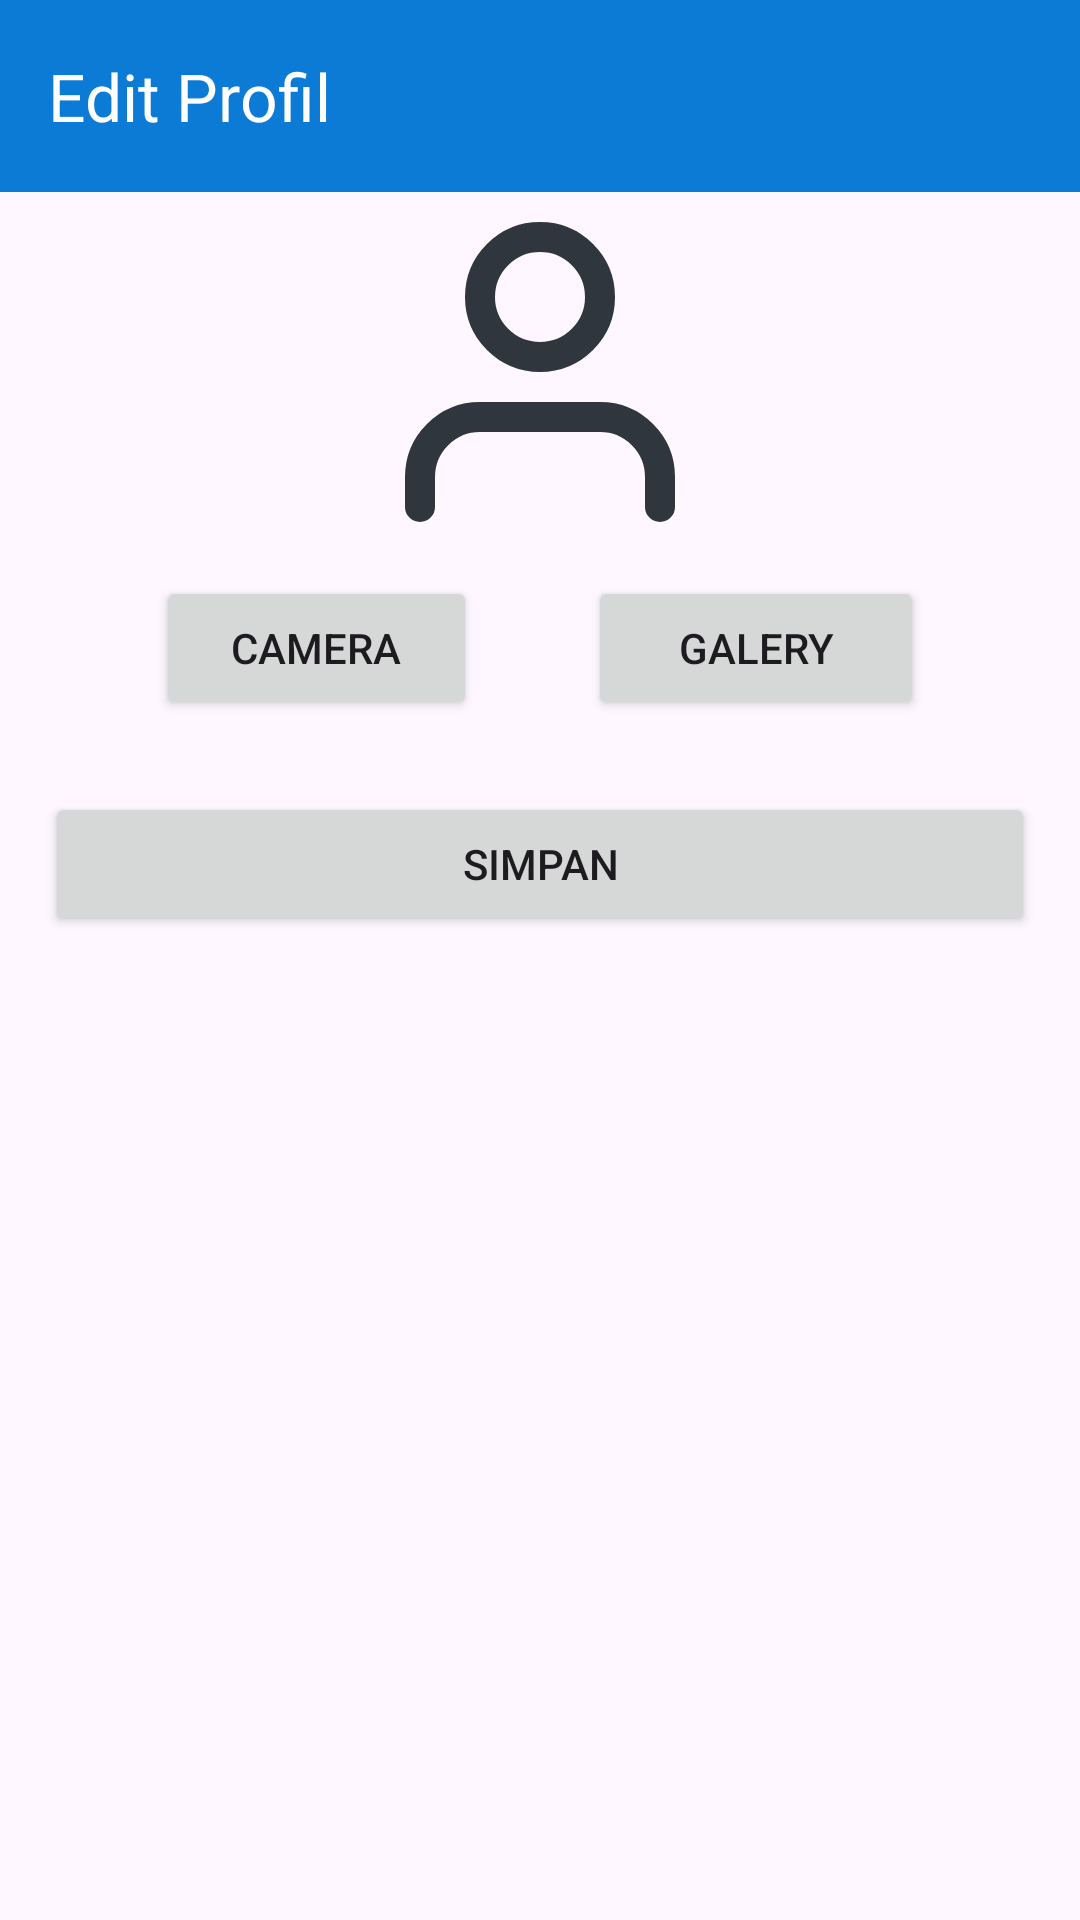

Screen size 1080*1920. Icon name, then its box in pixels as (x1, y1, x2, y2):
user: (405, 222, 675, 522)
